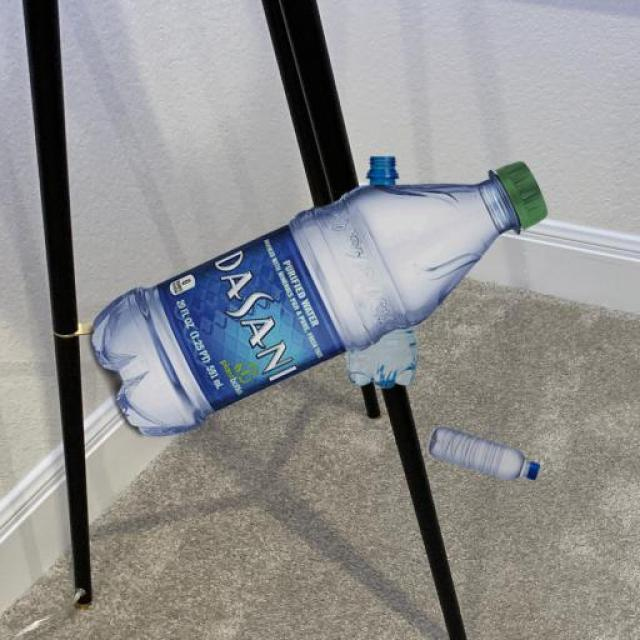bottle: (88, 140, 541, 440), (402, 422, 548, 488)
